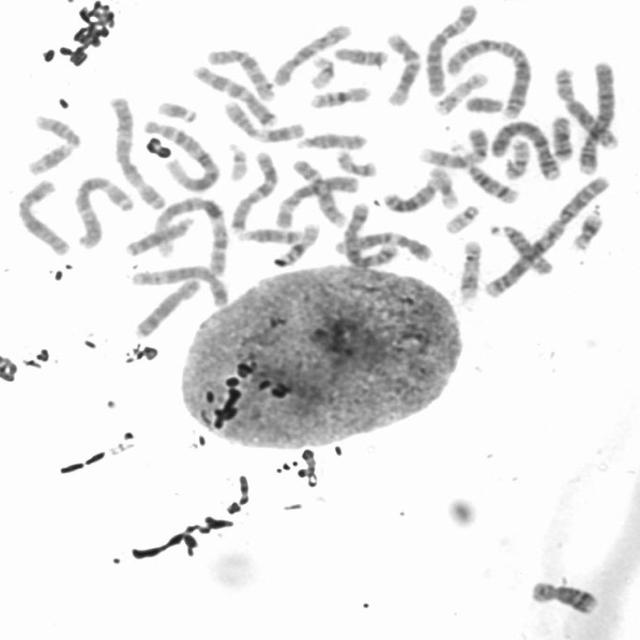A1: (148, 194, 231, 276), (138, 116, 222, 192)
A2: (478, 170, 614, 302), (443, 33, 533, 120)
A3: (105, 93, 169, 211), (70, 171, 135, 250)
B4: (574, 57, 620, 177), (489, 116, 562, 182)
B5: (127, 261, 231, 308), (338, 197, 400, 269)
C10: (267, 20, 354, 87), (204, 43, 278, 102)
C11: (219, 96, 307, 144), (22, 109, 82, 178)
C12: (329, 226, 434, 263), (382, 29, 424, 107)
C6: (420, 0, 480, 98), (270, 170, 360, 231)
C7: (188, 59, 282, 128), (225, 146, 280, 235)
C8: (550, 64, 620, 152), (130, 275, 202, 339)
C9: (287, 155, 348, 228), (414, 123, 490, 169)
D13: (121, 212, 197, 258), (379, 174, 442, 214)
D14: (462, 159, 521, 205), (235, 224, 305, 244)
D15: (486, 220, 556, 276), (291, 128, 369, 151)
E16: (270, 218, 323, 268), (305, 82, 373, 109)
E17: (430, 67, 490, 116), (454, 236, 484, 302)
E18: (330, 42, 390, 68), (547, 112, 574, 161)
F19: (426, 163, 462, 210), (305, 51, 337, 90)
F20: (331, 146, 379, 178), (500, 136, 532, 180)
G21: (568, 206, 606, 252), (153, 96, 199, 124)
G22: (441, 200, 481, 234), (223, 138, 250, 182)
X: (12, 175, 72, 257)
Y: (461, 92, 506, 114)
